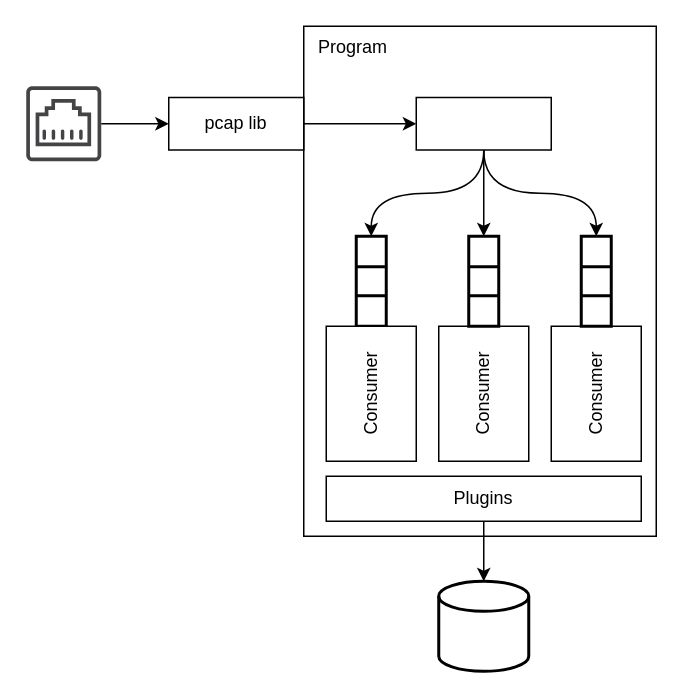
The diagram is 683 pixels wide and 699 high, and some of its shapes have lost their labels. The shapes that lost their labels are listed below. From the top down, each one's centre as x and y in pixels, then its label:
At (483,123): "Producer".
At (483,625): "reporting".
